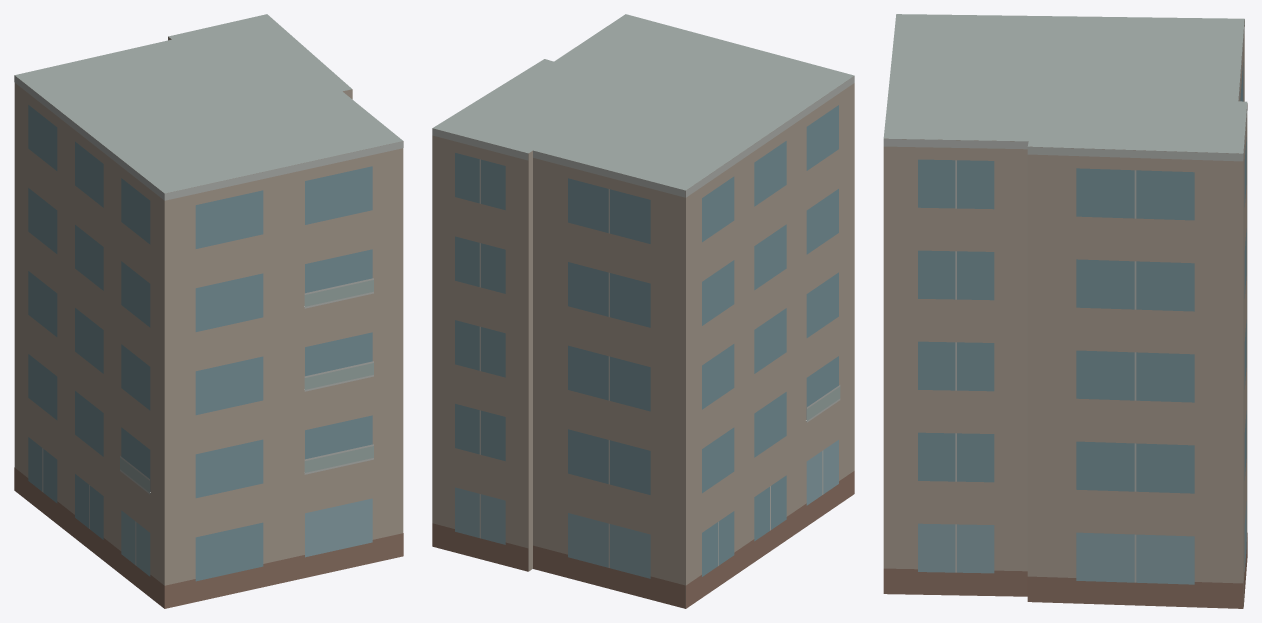
File: survey-upis-32714397.glb
The picture shows the model from 3 angles, left to right: view 1: azimuth 30°, elevation 25°; view 2: azimuth 150°, elevation 25°; view 3: azimuth 270°, elevation 25°; orthographic projection. The views are drawn at different scales.
Parts seen in each view (by area): view 1: survey-upis-32714397.tmp; view 2: survey-upis-32714397.tmp; view 3: survey-upis-32714397.tmp.
Part boxes in pixels (box(x1,y1,x2,y2)): survey-upis-32714397.tmp: box(14, 14, 403, 608); survey-upis-32714397.tmp: box(432, 14, 854, 608); survey-upis-32714397.tmp: box(883, 14, 1247, 608).
Bounding box in the file's own units: 9.29 × 14.1 × 10.22.
